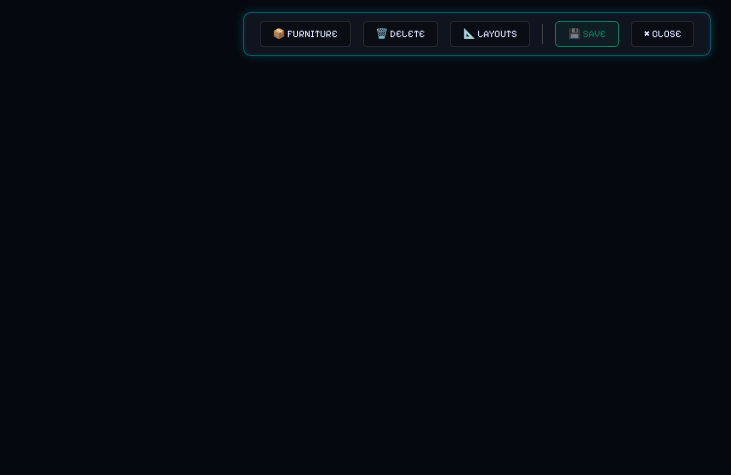
Test: Issue #87 — mobile toolbar / room switcher overlap › opens the furniture palette when Furniture is clicked
The width and height of the screenshot is (731, 475).
Click the button titled "Furniture palette" at (305, 34), box 260,21 -> 351,47
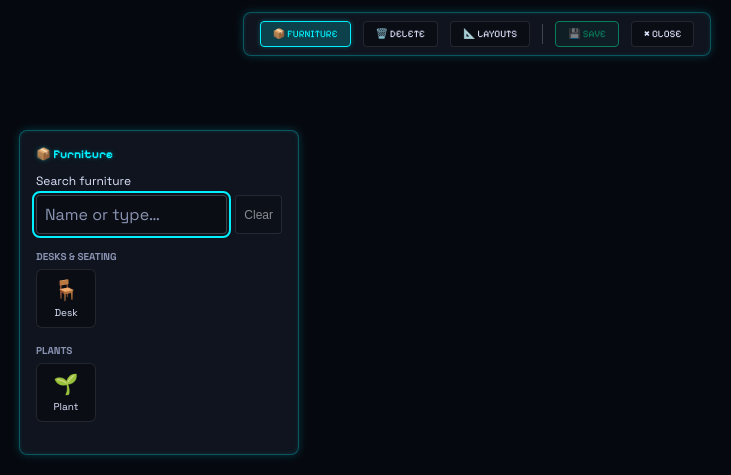
Expected: the heading "Desks & Seating" is shown, 36,250 -> 117,263
Expected: the heading "Plants" is shown, 36,344 -> 72,357
